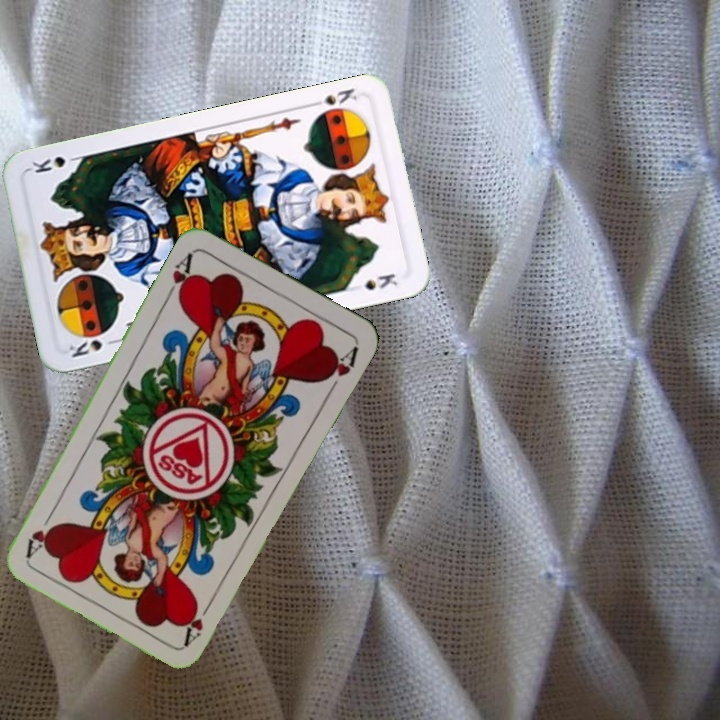HA: (180, 593, 217, 648), (161, 249, 196, 305)
SK: (65, 335, 122, 360), (306, 84, 360, 110)
